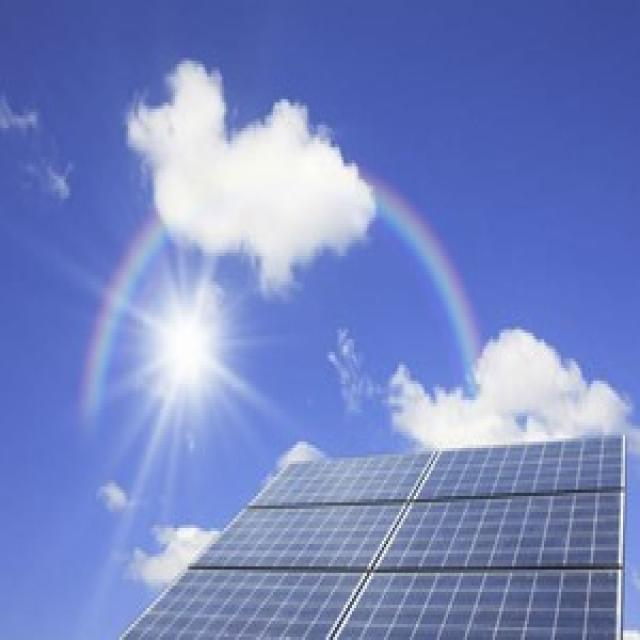clean-solar-panel: (278, 441, 326, 472)
